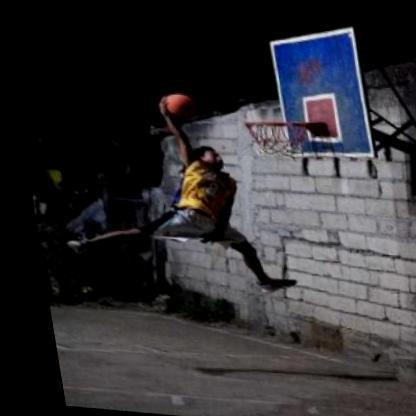basketball: (159, 90, 196, 127)
